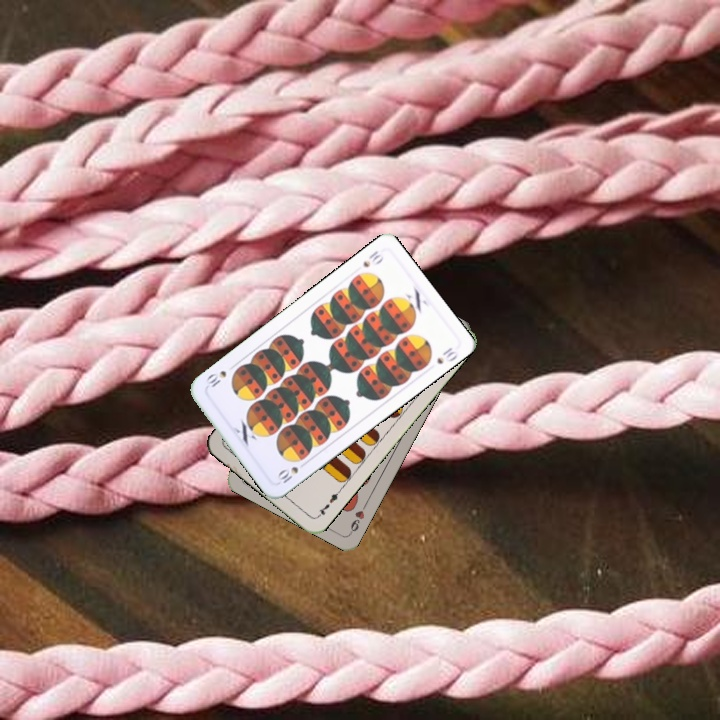E7: (313, 486, 343, 520)
H9: (346, 498, 370, 536)
S10: (273, 462, 301, 486), (359, 246, 386, 270)
